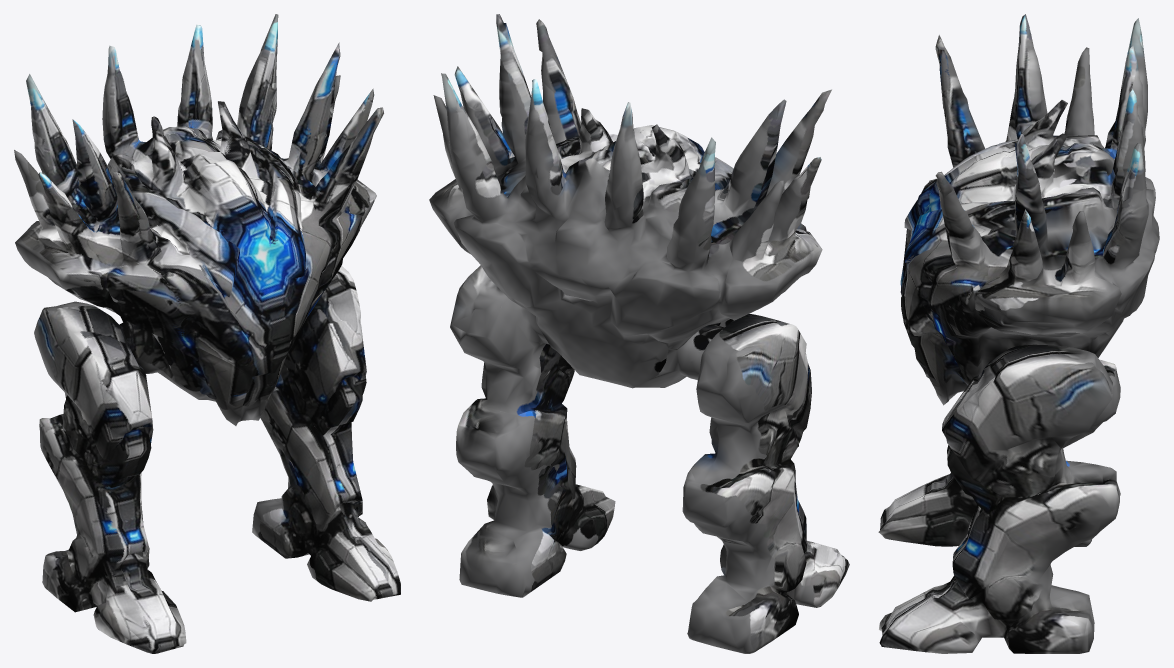
The model's file is arc_lod1.glb.
The picture shows the model from 3 angles, left to right: view 1: azimuth 30°, elevation 25°; view 2: azimuth 150°, elevation 25°; view 3: azimuth 270°, elevation 25°; orthographic projection. The views are drawn at different scales.
Parts seen in each view (by area): view 1: geometry_0; view 2: geometry_0; view 3: geometry_0.
Boxes of the visible parts, x1,y1,x2,y2 form: geometry_0: [14, 14, 400, 653]; geometry_0: [429, 14, 849, 653]; geometry_0: [878, 14, 1159, 653].
Bounding box in the file's own units: 1.4 × 2 × 0.9869.
Materials: 1 (1 with a texture image).
